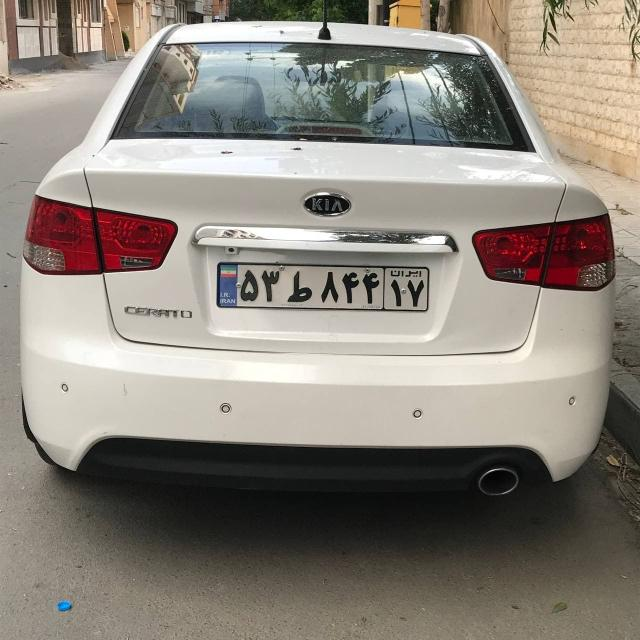Plates: (216, 263, 429, 312)
